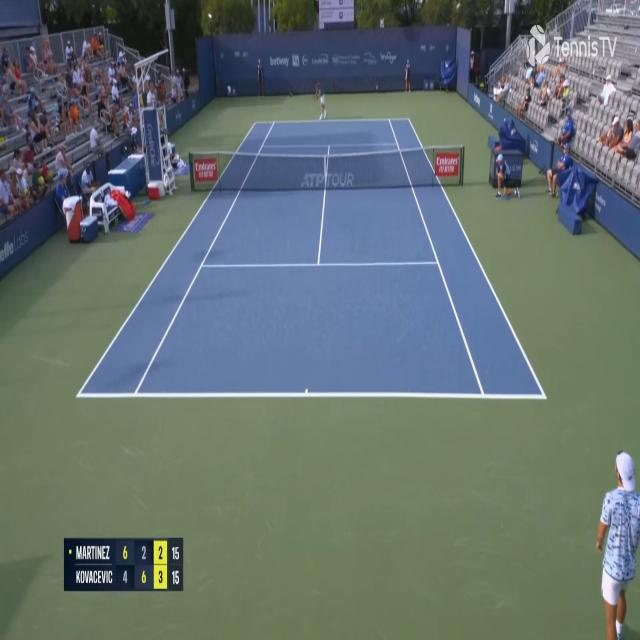tennis-player: (594, 448, 640, 639), (312, 80, 328, 121)
